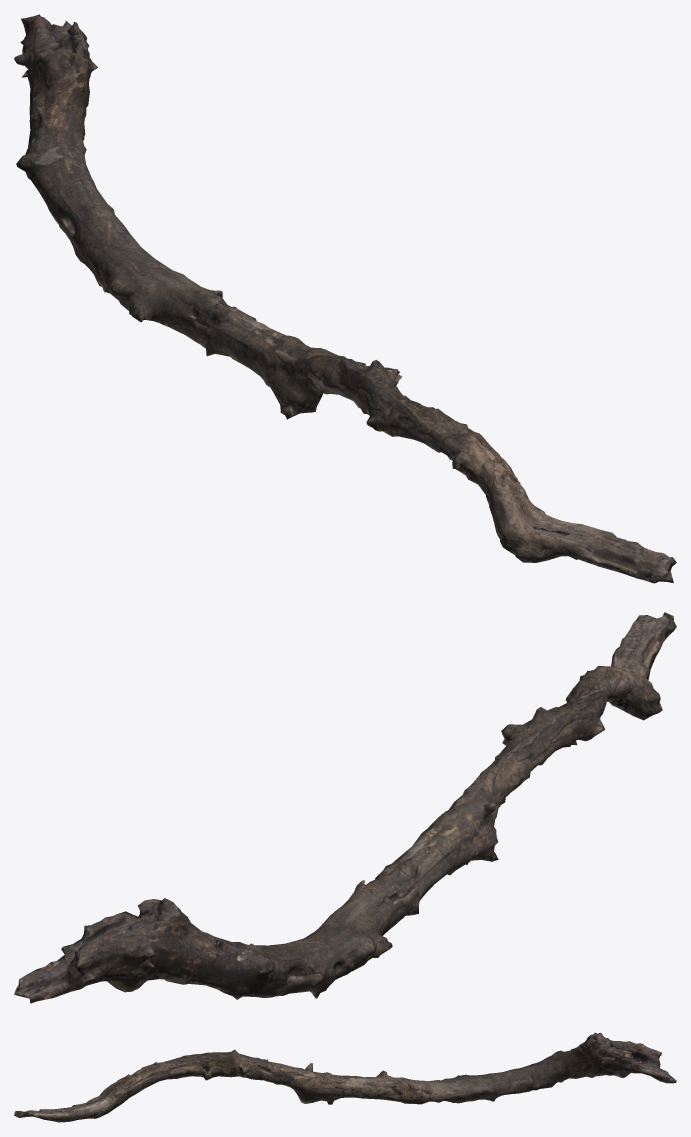
The model's file is branch_b.glb.
3 renders of one model, top to bottom at view 1: azimuth 30°, elevation 25°; view 2: azimuth 150°, elevation 25°; view 3: azimuth 270°, elevation 25°, orthographic. The views are drawn at different scales.
Visible parts, largest first — view 1: branch_b; view 2: branch_b; view 3: branch_b.
Boxes of the visible parts, x1,y1,x2,y2 form: branch_b: (14, 14, 676, 583); branch_b: (14, 612, 676, 1003); branch_b: (14, 1032, 676, 1122).
Bounding box in the file's own units: 0.1456 × 0.1366 × 1.
1 material, 1 textured.
